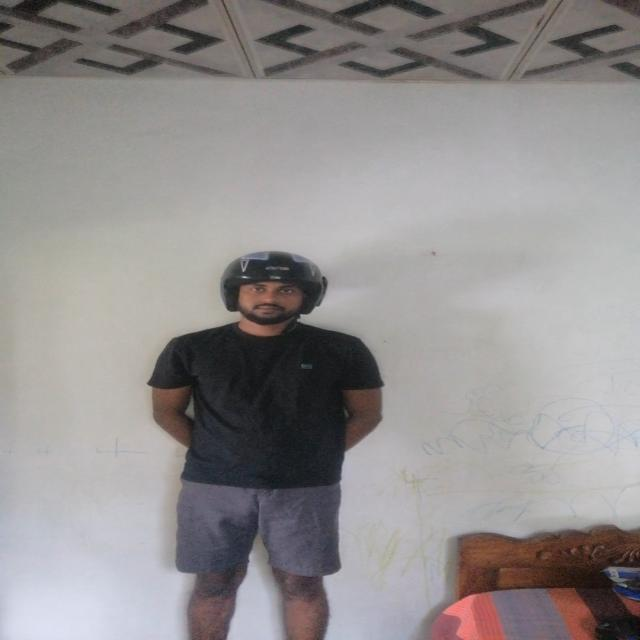Helmet_Wearer: (207, 246, 344, 348)
Person: (150, 252, 382, 640)
